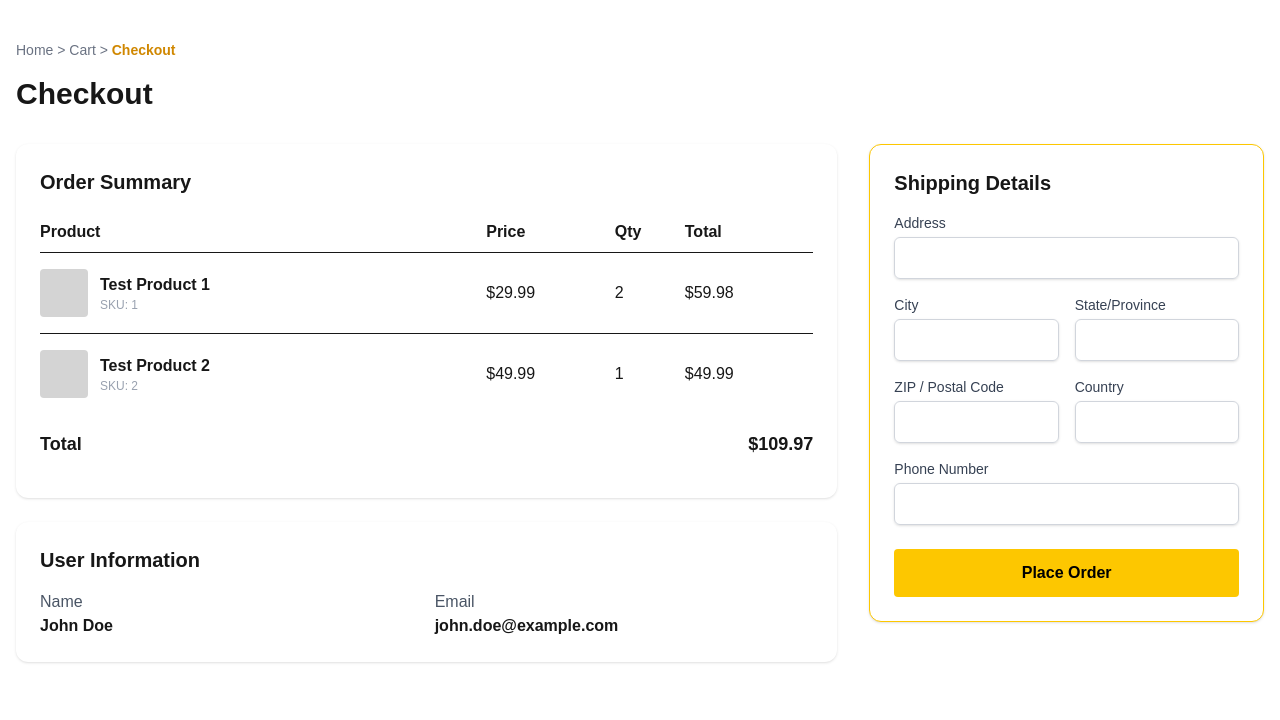
CheckoutClient › Form Submission › should show loading state during form submission
Fill out required form fields first
Type "123 Main St" into the field labelled "Address" at coordinates (1067, 258), box [894,237,1239,279]
Type "New York" into the field labelled "City" at coordinates (976, 340), box [894,319,1059,361]
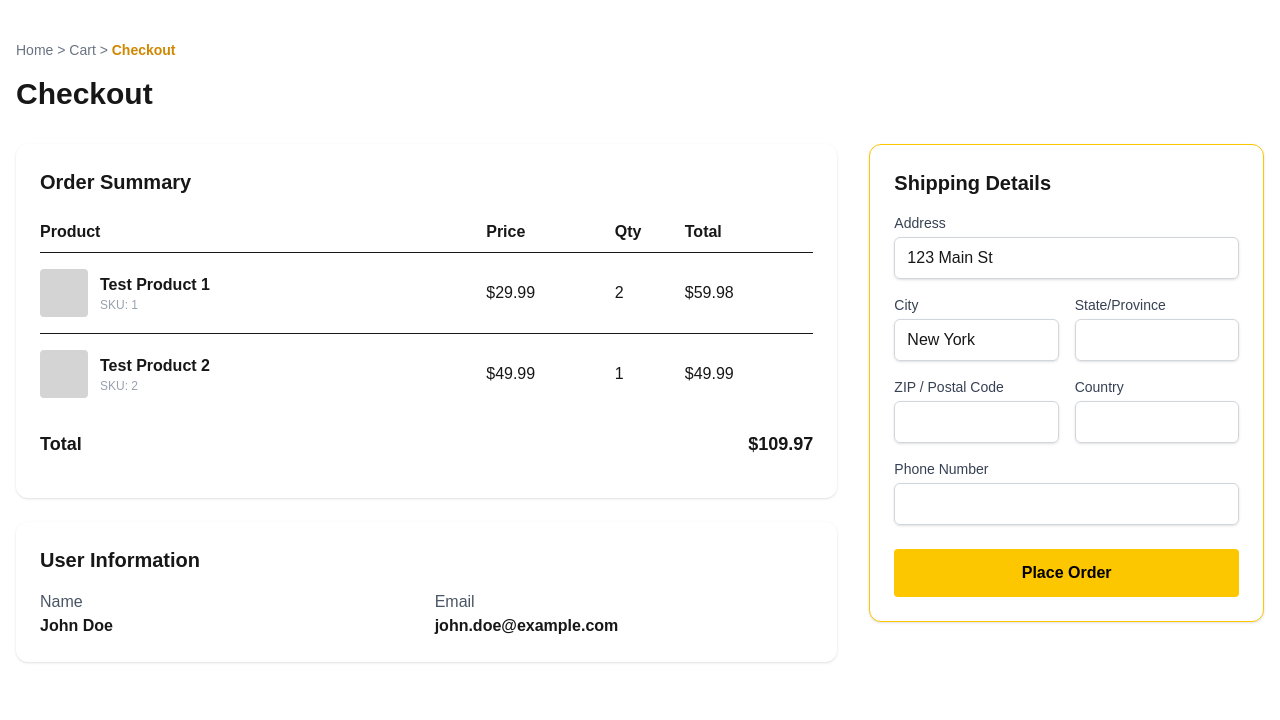
Type "NY" into the field labelled "State/Province" at coordinates (1157, 340), box [1075,319,1239,361]
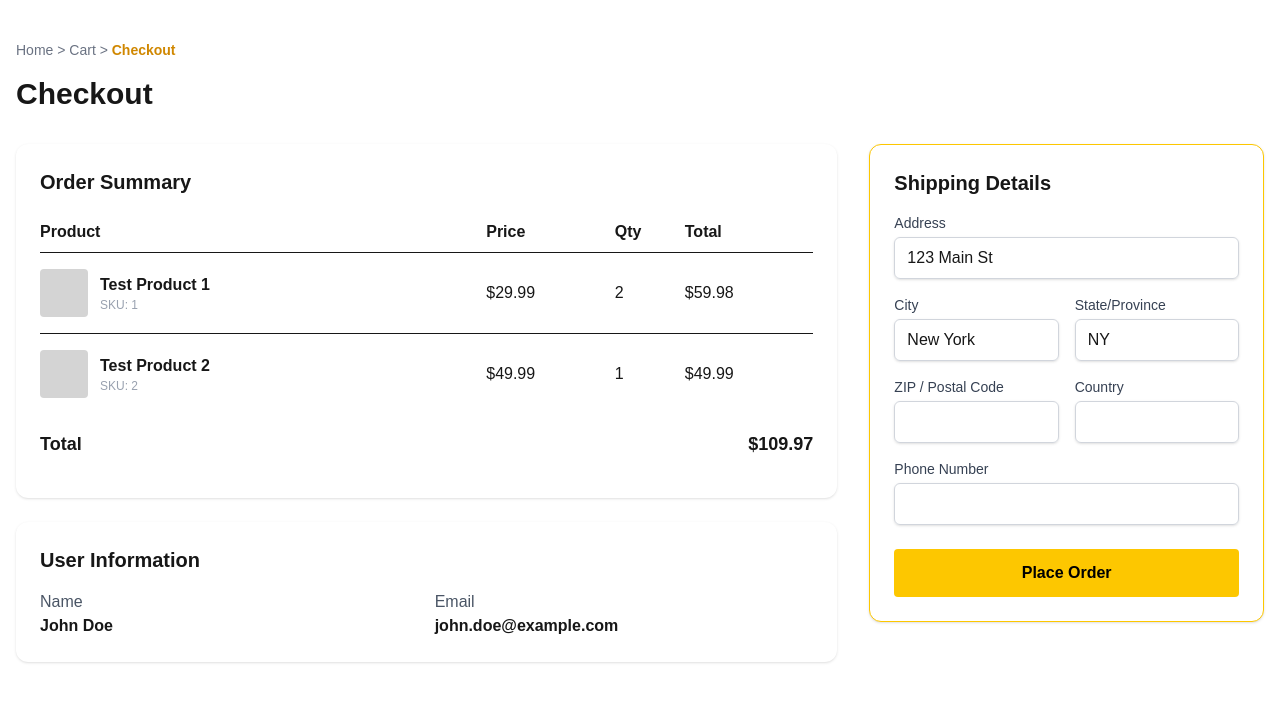
Type "10001" into the field labelled "ZIP / Postal Code" at coordinates (976, 422), box [894,401,1059,443]
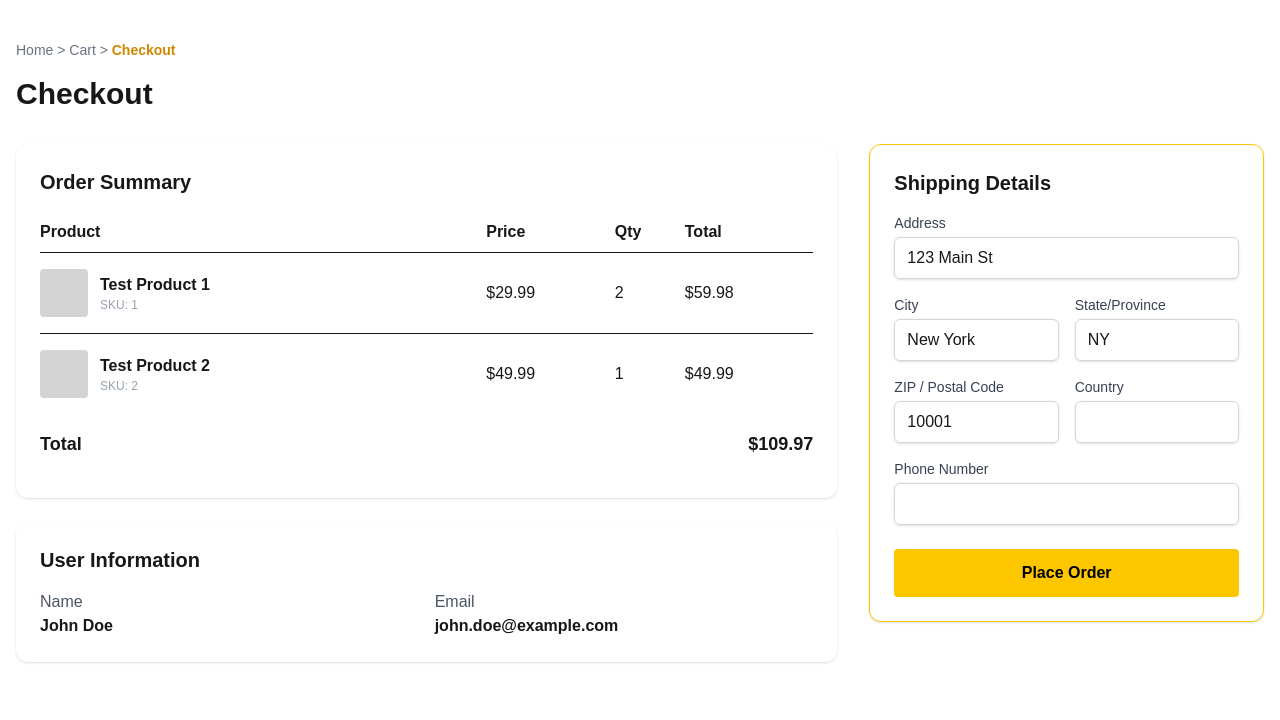
Type "USA" into the field labelled "Country" at coordinates (1157, 422), box [1075,401,1239,443]
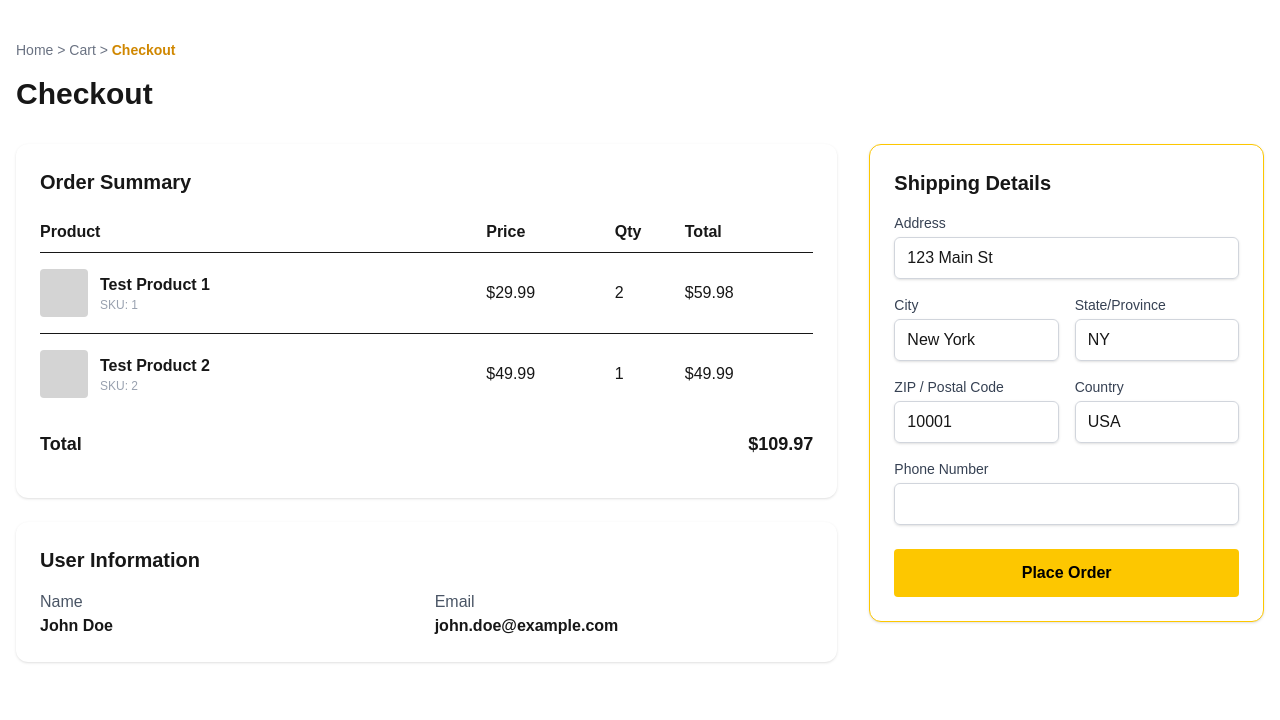
Type "+1234567890" into the field labelled "Phone Number" at coordinates (1067, 504), box [894,483,1239,525]
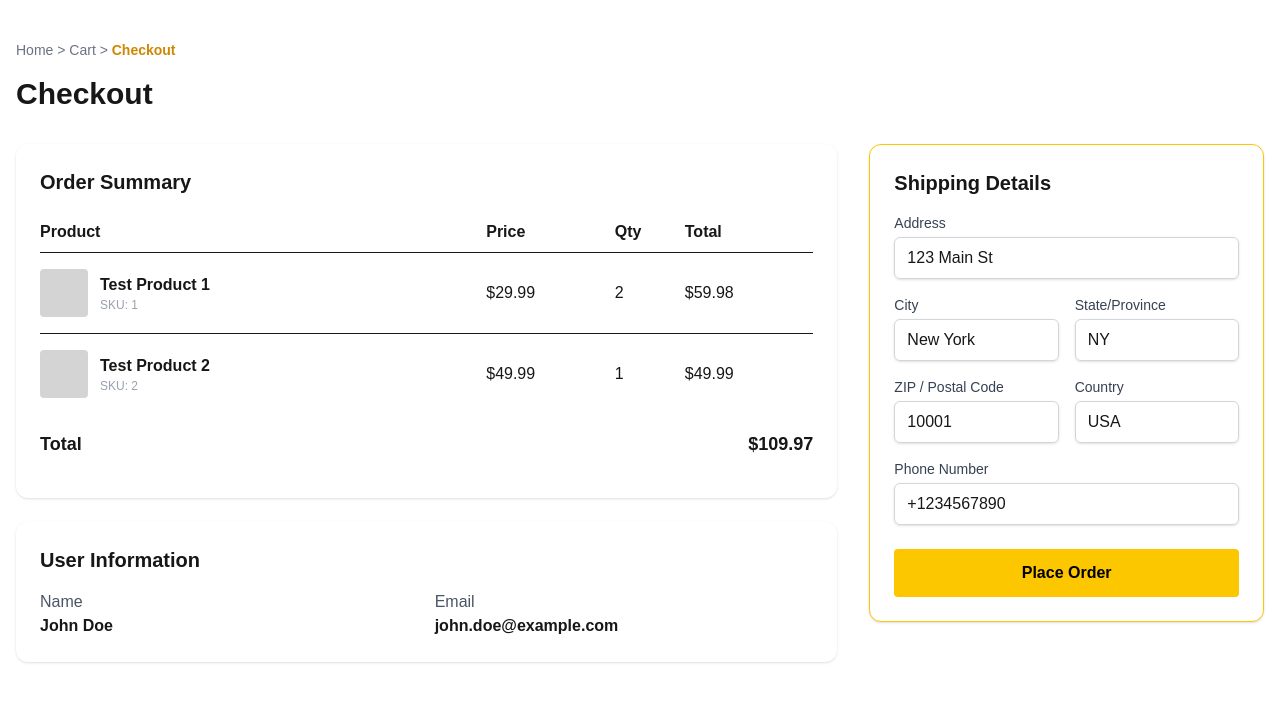
Click the button "Place Order" at coordinates (1067, 573), box [894,549,1239,597]
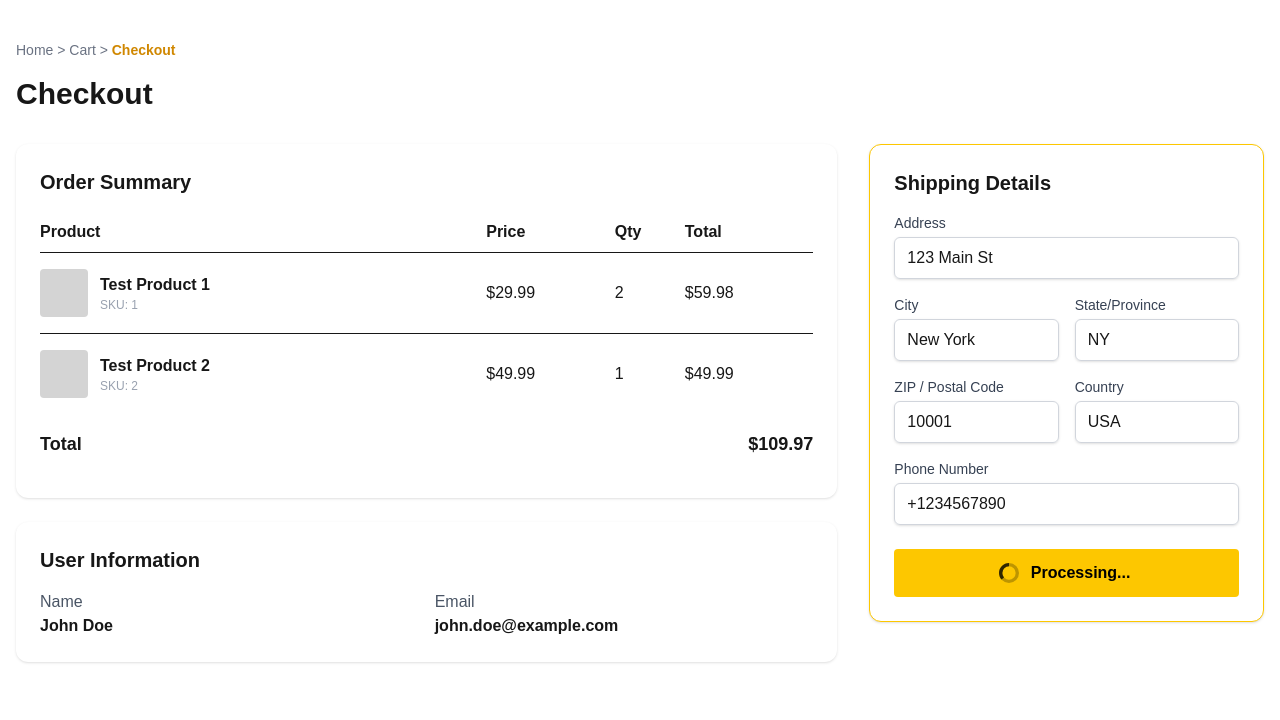
Check: the button "Processing..." is disabled, box [894,549,1239,597]
